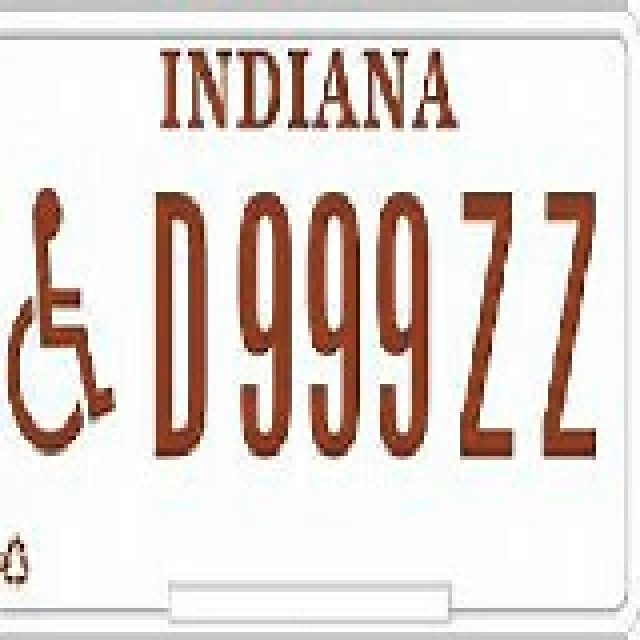ISA: (1, 182, 119, 465)
